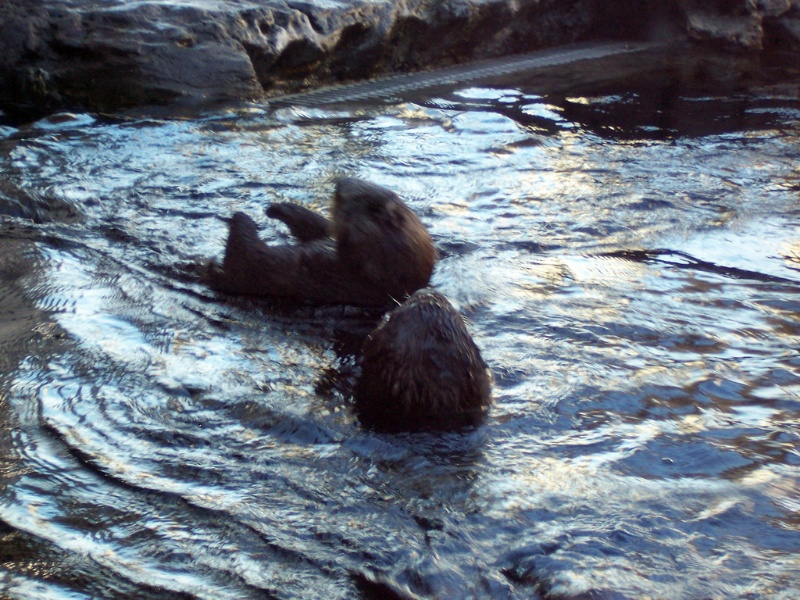minkish: (150, 166, 446, 318)
